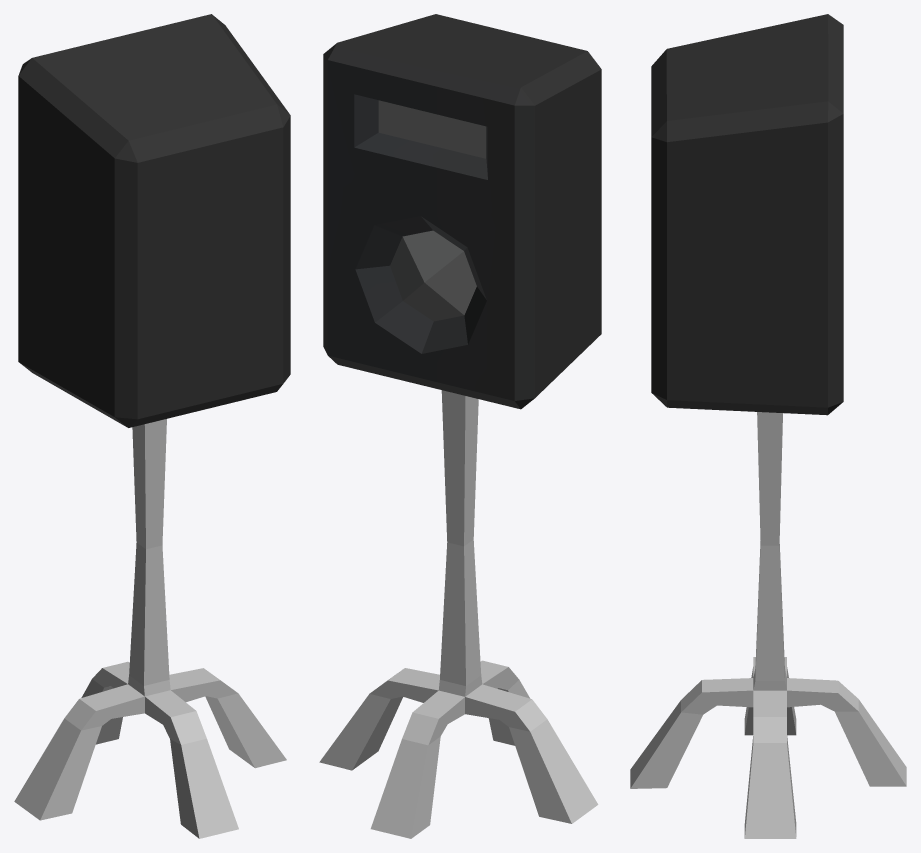
Rendered from Loa.fbx.
3 views of the same model, side by side, from view 1: azimuth 30°, elevation 25°; view 2: azimuth 150°, elevation 25°; view 3: azimuth 270°, elevation 25° (orthographic). The views are drawn at different scales.
Parts seen in each view (by area): view 1: Loa; view 2: Loa; view 3: Loa.
Part boxes in pixels (box(x1,y1,x2,y2)): Loa: box(14, 14, 290, 838); Loa: box(319, 14, 601, 838); Loa: box(630, 14, 906, 838).
Bounding box in the file's own units: 110 × 310 × 107.
